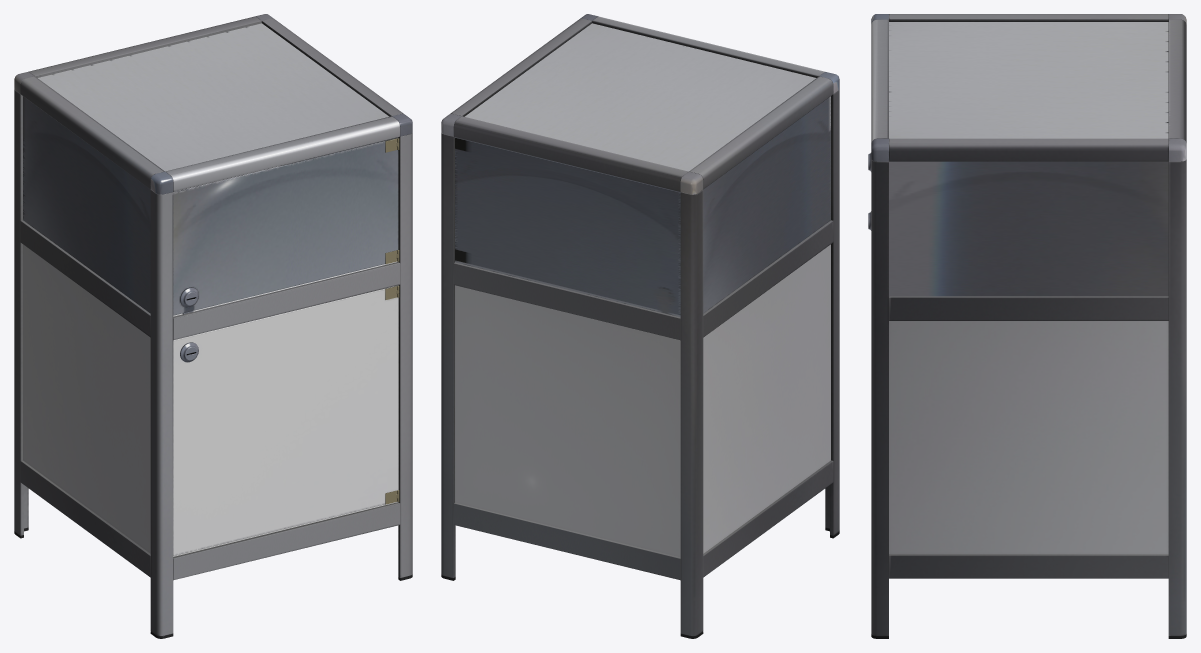
File: etna_50.glb
3 views of the same model, side by side, from view 1: azimuth 30°, elevation 25°; view 2: azimuth 150°, elevation 25°; view 3: azimuth 270°, elevation 25° (orthographic). The views are drawn at different scales.
Visible parts, largest first — view 1: etna_50-alu (×2); view 2: etna_50-alu (×2); view 3: etna_50-alu (×2).
Part boxes in pixels (x1=…): etna_50-alu (×2): x1=14, y1=14, x2=412, y2=638; etna_50-alu (×2): x1=441, y1=14, x2=839, y2=638; etna_50-alu (×2): x1=868, y1=14, x2=1186, y2=638.
Size of the model in its own units: 0.5305 by 0.9095 by 0.5323.
2 materials, 2 textured.
